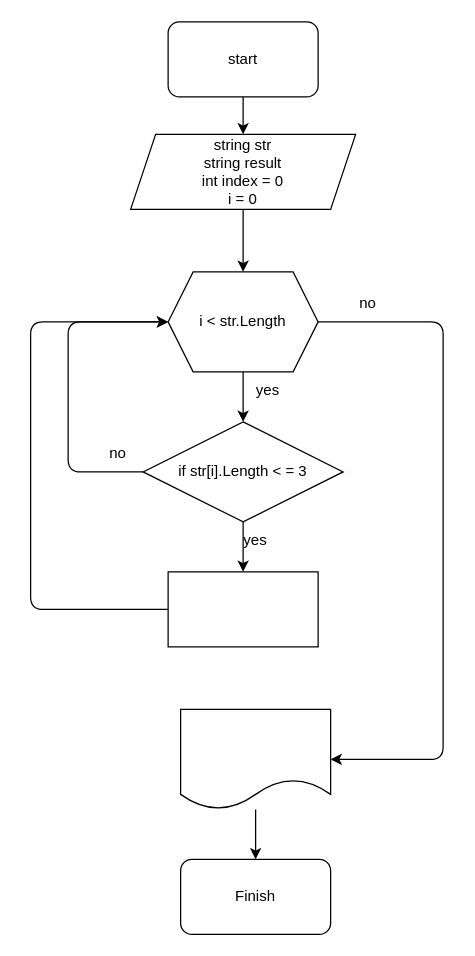
Some shapes in this 475 by 956 pixel diagram are drawn without their labels. Here are the shapes that lost their labels. From the top down, the box of each, then its label:
(167, 571, 318, 647): result[index] = str[i] index ++
(179, 708, 331, 809): return result
